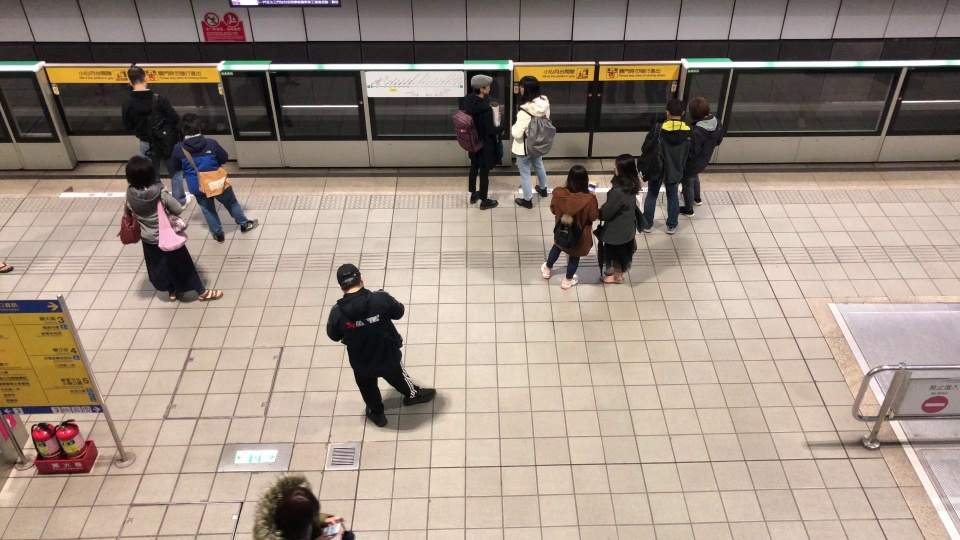person_head: (272, 485, 320, 537), (124, 153, 156, 189), (335, 262, 366, 294), (611, 153, 637, 186), (563, 164, 591, 194), (177, 111, 203, 137), (688, 94, 711, 122), (662, 97, 685, 123), (126, 64, 148, 91), (518, 74, 541, 99), (470, 73, 493, 97)
person_vbox: (325, 261, 437, 427), (115, 154, 223, 301), (168, 111, 260, 244), (119, 64, 191, 210), (635, 96, 697, 235), (591, 152, 649, 284), (539, 166, 598, 289), (451, 72, 503, 210), (250, 467, 345, 540), (509, 75, 557, 210), (677, 93, 725, 216)
